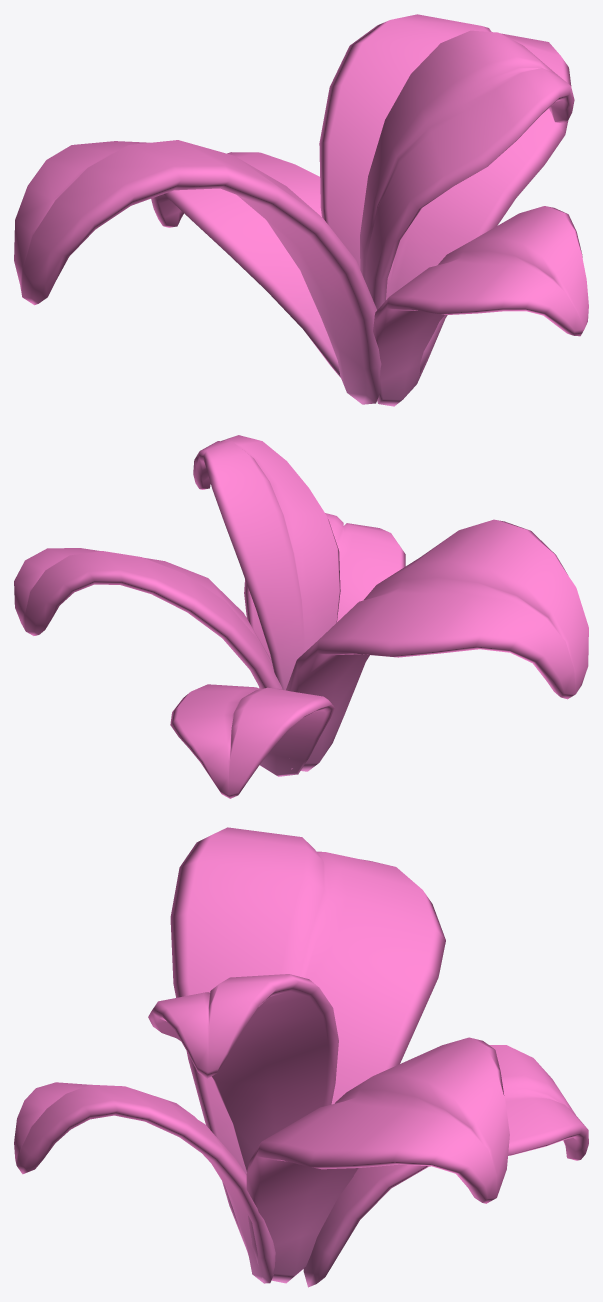
Rendered from vegetacion04.fbx.
The picture shows the model from 3 angles, top to bottom: view 1: azimuth 30°, elevation 25°; view 2: azimuth 150°, elevation 25°; view 3: azimuth 270°, elevation 25°; orthographic projection. The views are drawn at different scales.
Visible parts, largest first — view 1: Plant.010; view 2: Plant.010; view 3: Plant.010.
Boxes of the visible parts, x1,y1,x2,y2 form: Plant.010: (14,14,588,406); Plant.010: (14,435,588,798); Plant.010: (14,827,588,1287).
Size of the model in its own units: 875 by 490 by 713.
Materials: 1 (1 with a texture image).
